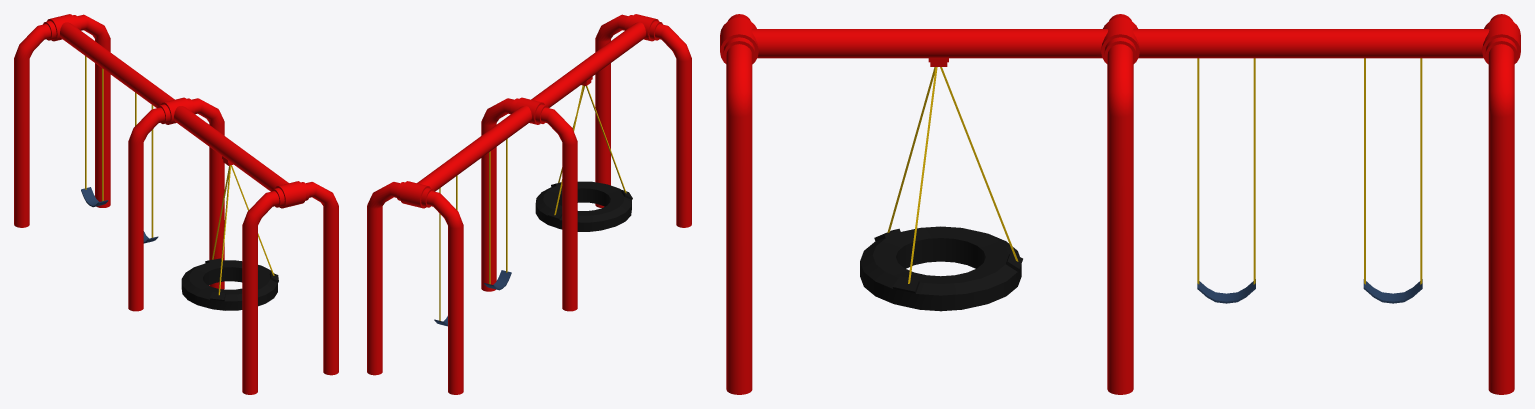
Rendered from Swingset.fbx.
3 views of the same model, side by side, from view 1: azimuth 30°, elevation 25°; view 2: azimuth 150°, elevation 25°; view 3: azimuth 270°, elevation 25° (orthographic). The views are drawn at different scales.
Parts seen in each view (by area): view 1: SwingSet; view 2: SwingSet; view 3: SwingSet.
Part boxes in pixels (bbox=[...]): SwingSet: bbox=[14, 14, 338, 394]; SwingSet: bbox=[367, 14, 691, 394]; SwingSet: bbox=[720, 14, 1520, 394].
Bounding box in the file's own units: 4.78 × 9.55 × 21.02.
